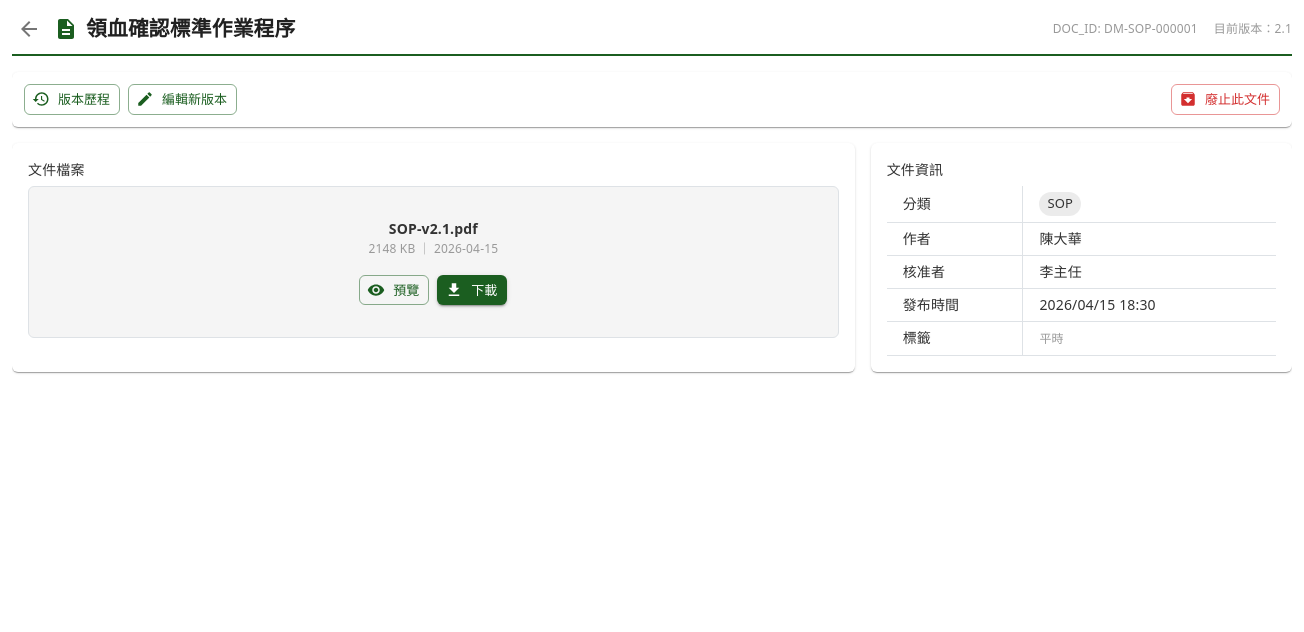
Scenario: DmDetailPage 文件詳細頁 › 版本歷程：展開列所有版本；目前版可下載、舊版僅預覽
The width and height of the screenshot is (1304, 632).
Expected: the heading "領血確認標準作業程序" is shown, [86, 13, 296, 45]
Click the button "版本歷程" at (72, 99), box [24, 84, 120, 115]
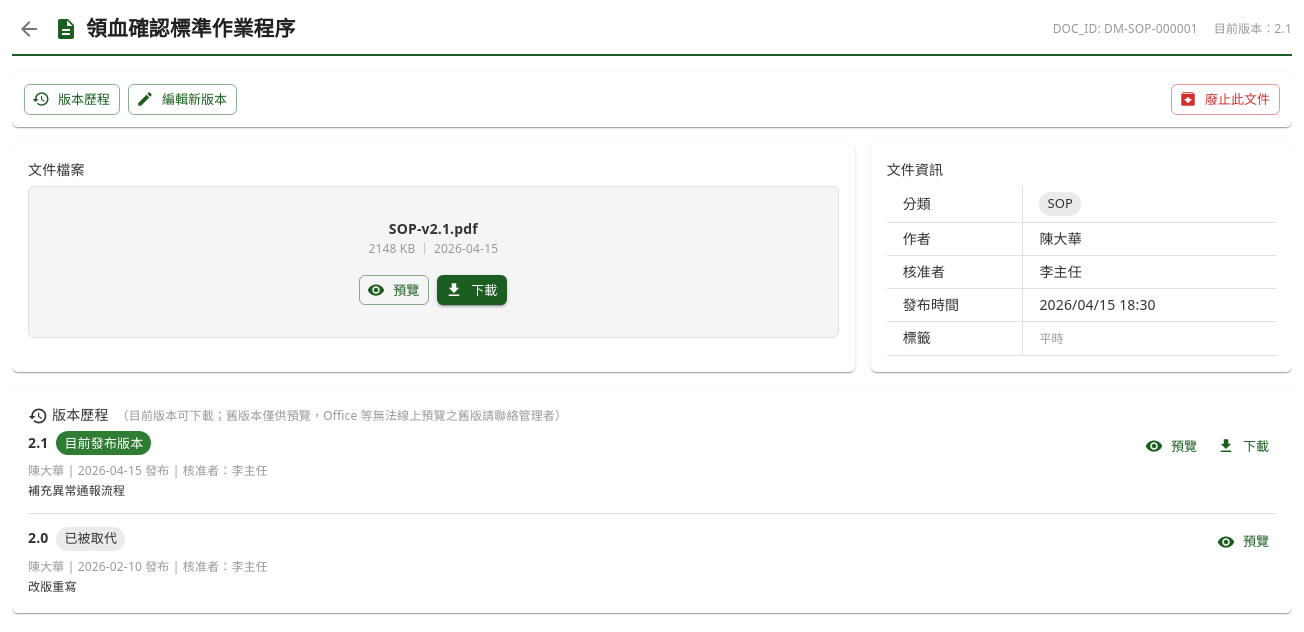
Result: the text "2.1" is shown at [28, 433, 48, 452]
Result: the text "2.0" is shown at [28, 528, 48, 547]
Result: the text "目前發布版本" is shown at [64, 434, 143, 452]
